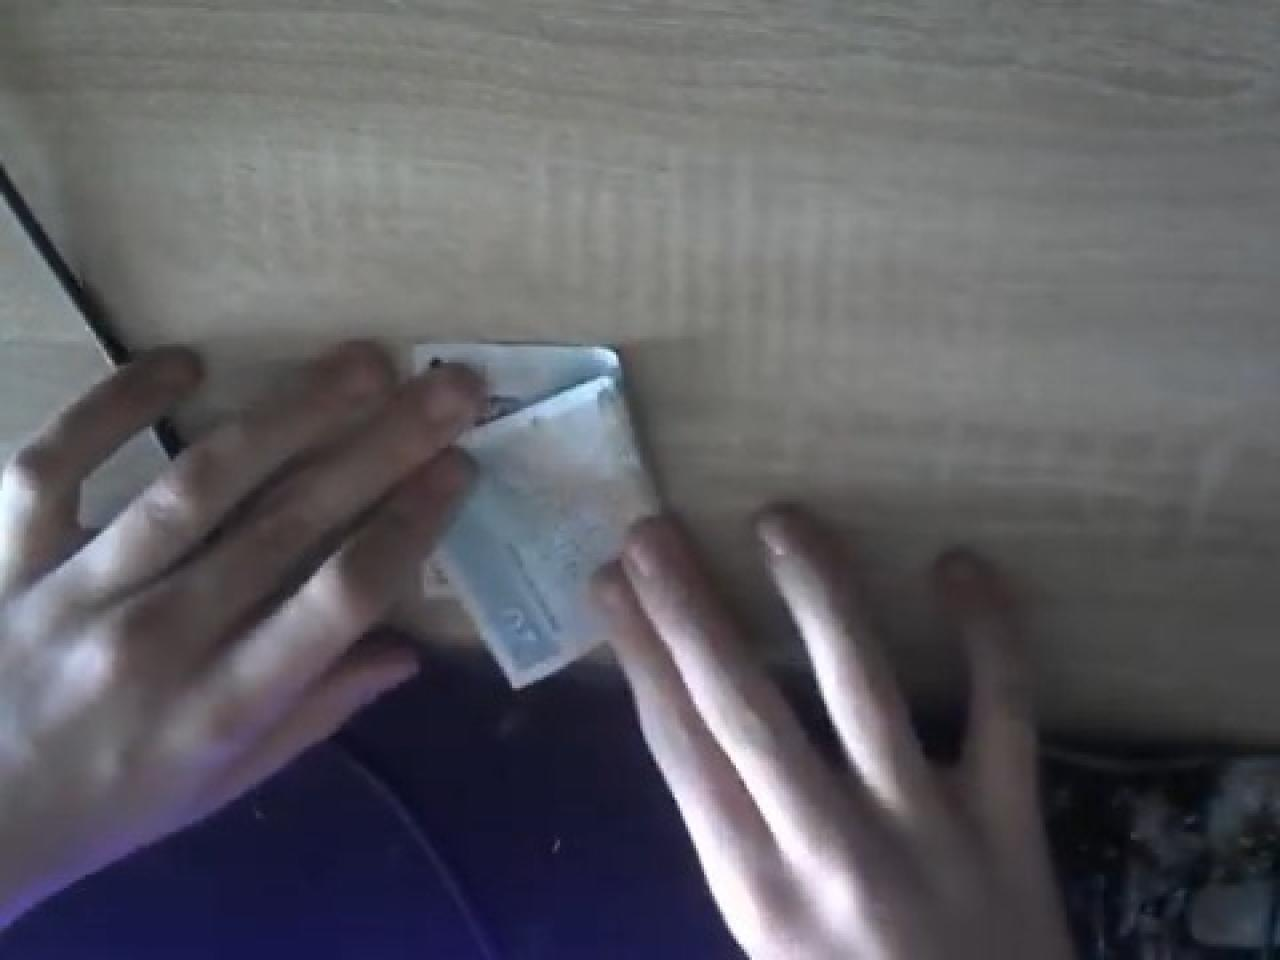20leva: (410, 339, 666, 688)
